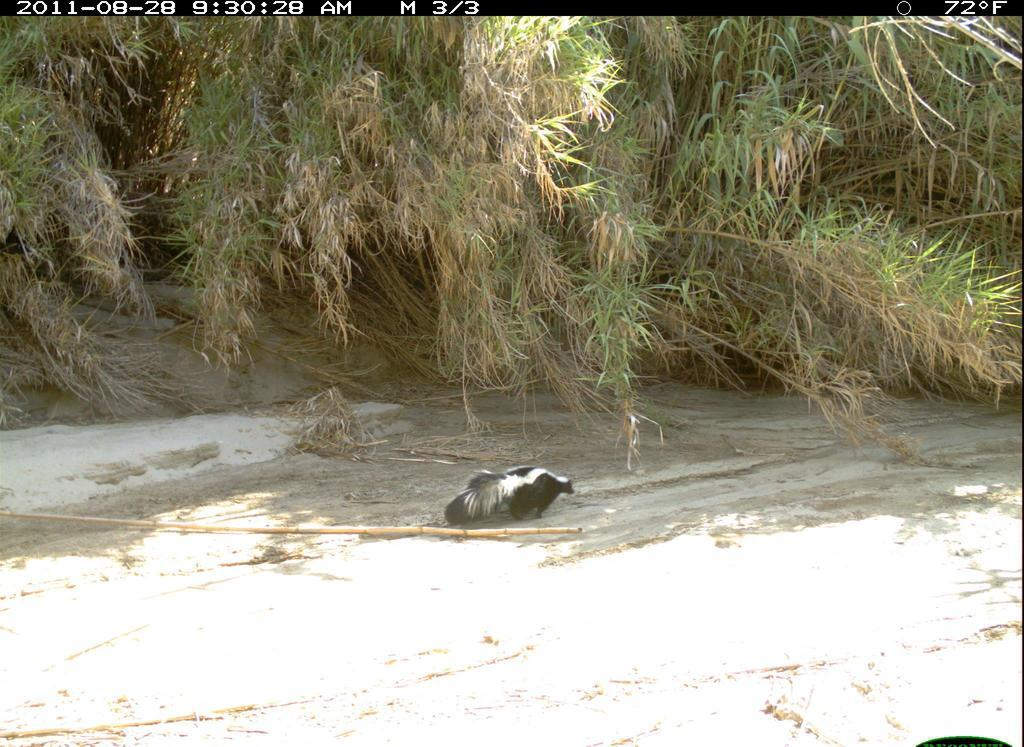skunk: (431, 456, 582, 539)
